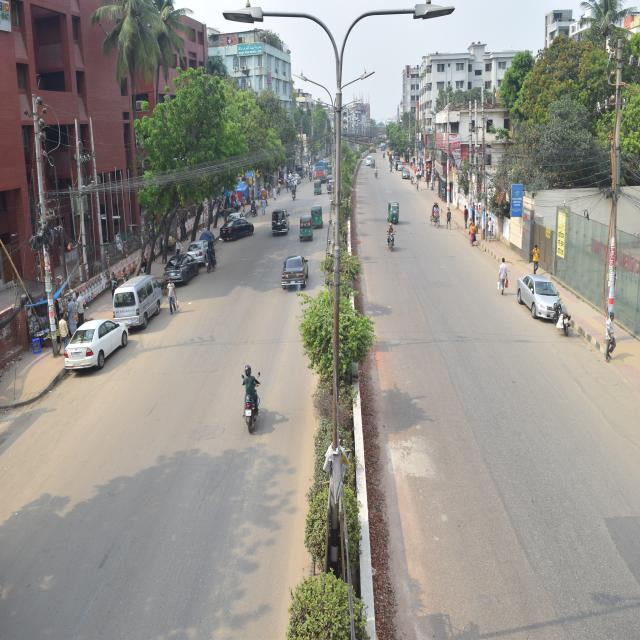car: (59, 314, 138, 382), (513, 270, 564, 330), (159, 246, 201, 290), (212, 211, 259, 246), (278, 249, 314, 292), (178, 230, 211, 270)
microbus: (110, 269, 170, 336), (268, 201, 294, 240)
motorbike: (230, 361, 274, 440), (551, 293, 575, 341), (382, 216, 402, 258), (288, 182, 299, 200)
